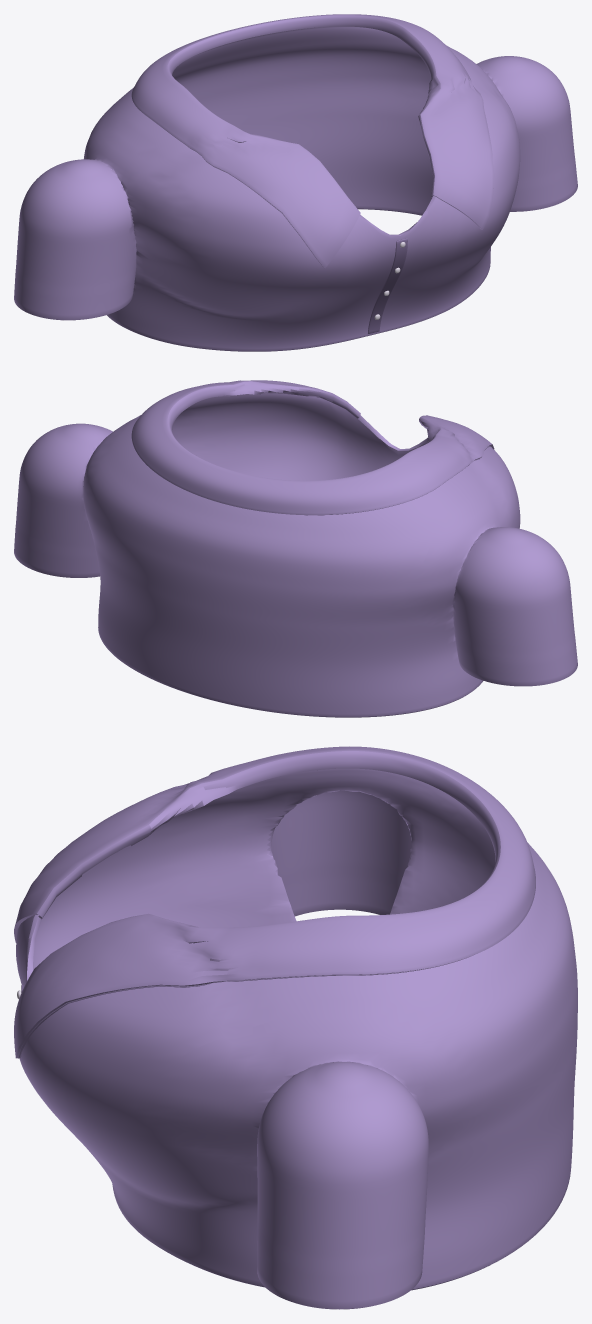
The model's file is Feminine-open-top.glb.
The picture shows the model from 3 angles, top to bottom: view 1: azimuth 30°, elevation 25°; view 2: azimuth 150°, elevation 25°; view 3: azimuth 270°, elevation 25°; orthographic projection. The views are drawn at different scales.
Visible parts, largest first — view 1: Clothing / joined open186, Button-up / lower closed placket; view 2: Clothing / joined open186; view 3: Clothing / joined open186, Button-up / falling edge stitch export.
Boxes of the visible parts, x1,y1,x2,y2 form: Clothing / joined open186: (14,14,577,351); Button-up / lower closed placket: (367,238,407,333); Clothing / joined open186: (14,380,577,717); Clothing / joined open186: (14,746,577,1309); Button-up / falling edge stitch export: (18,956,470,1058).
Bounding box in the file's own units: 0.938 × 0.3605 × 0.5554.
